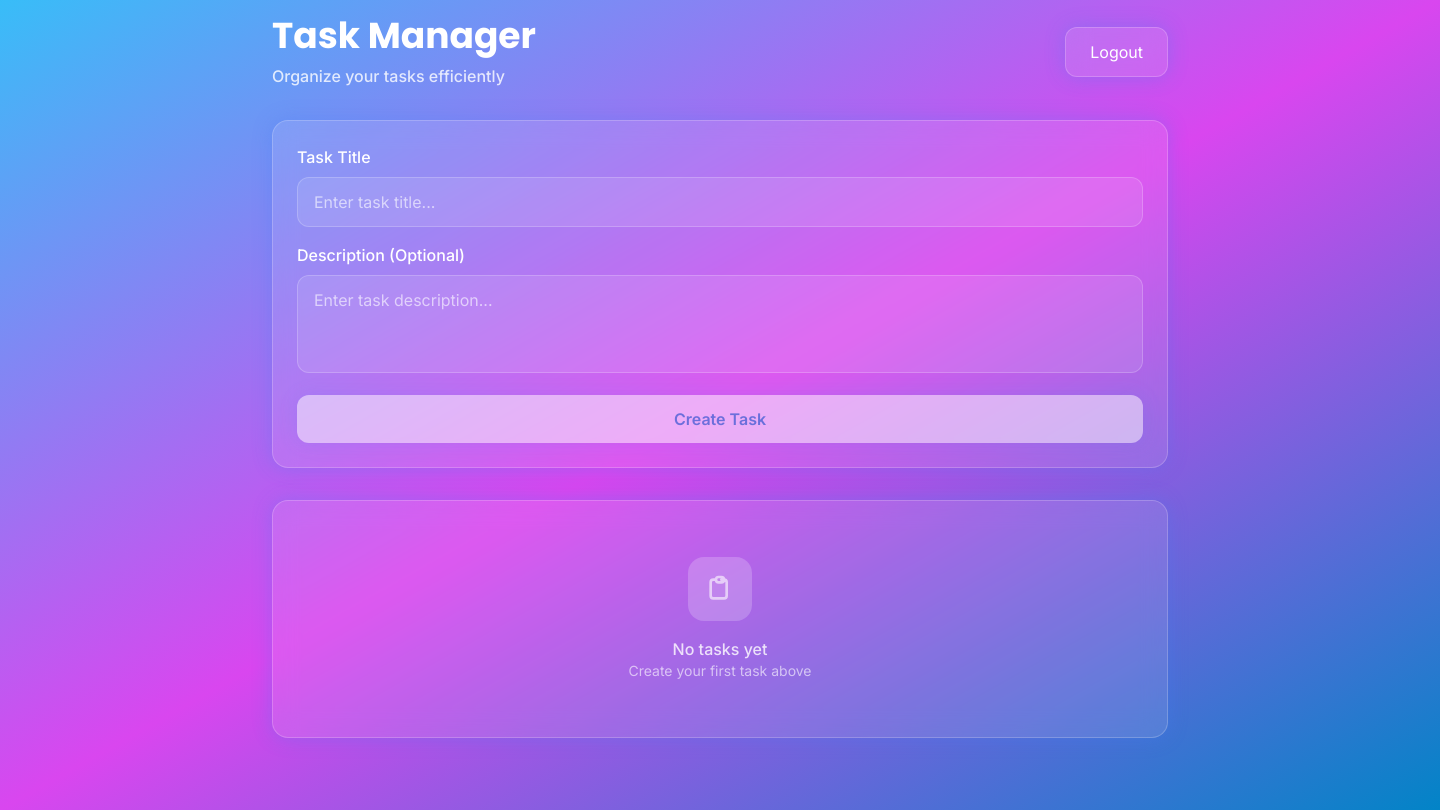
Test case: TodoPage Component › should create a new task
Type "New Task" into the field with placeholder "Enter task title..." at (720, 202), box [297,177,1143,227]
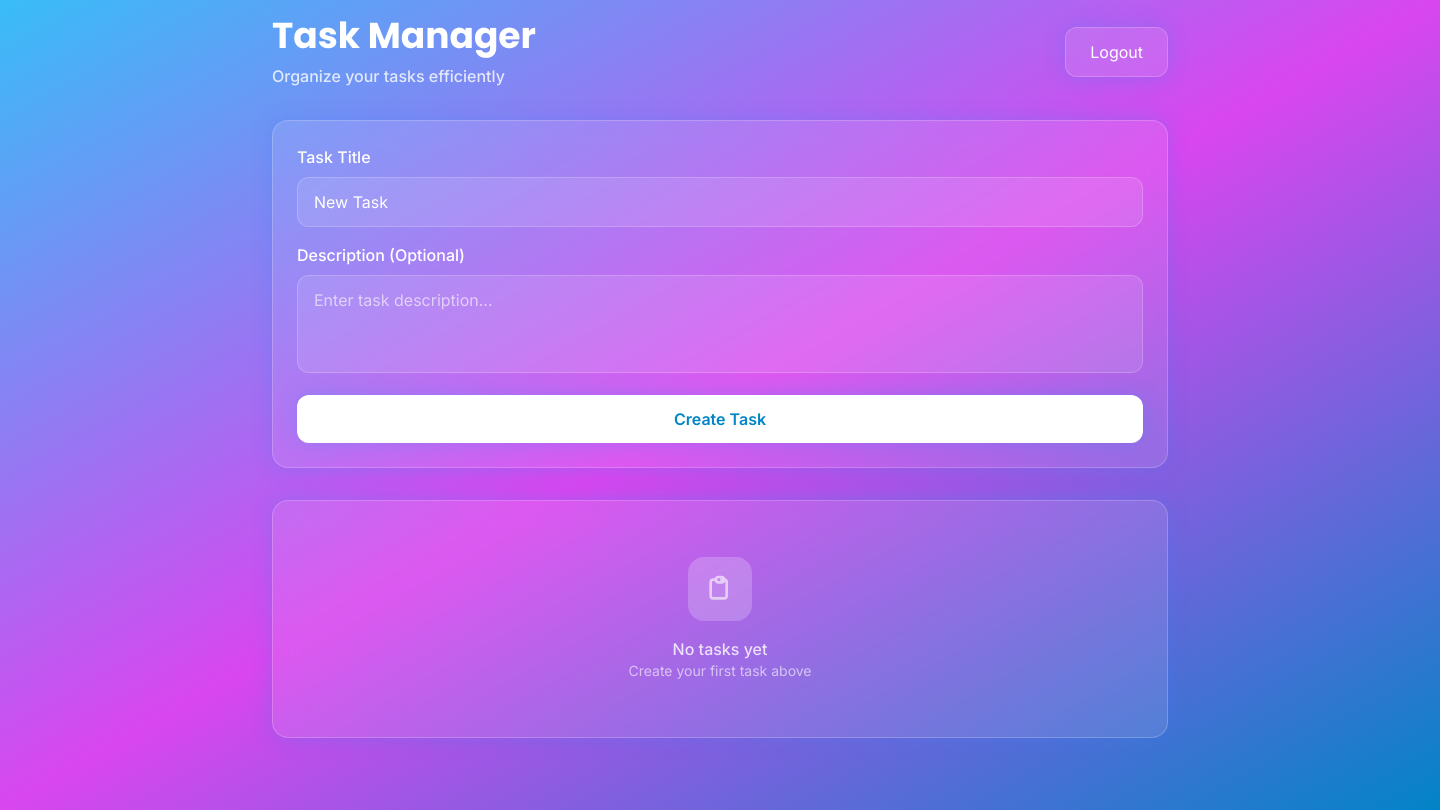
Click the button "Create Task" at (720, 419), box [297,395,1143,443]
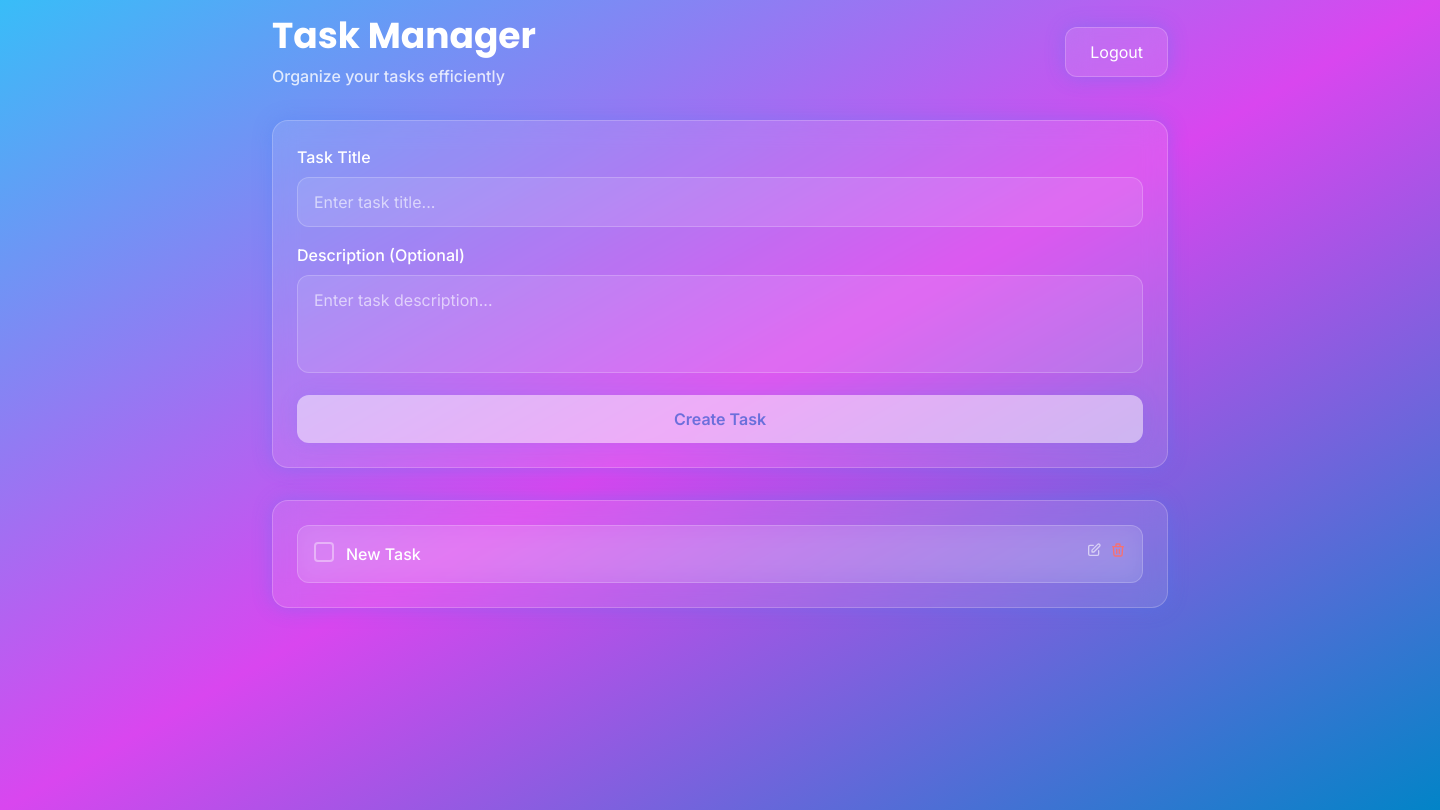
Expected: the heading "New Task" is shown, [346,544,421,564]
